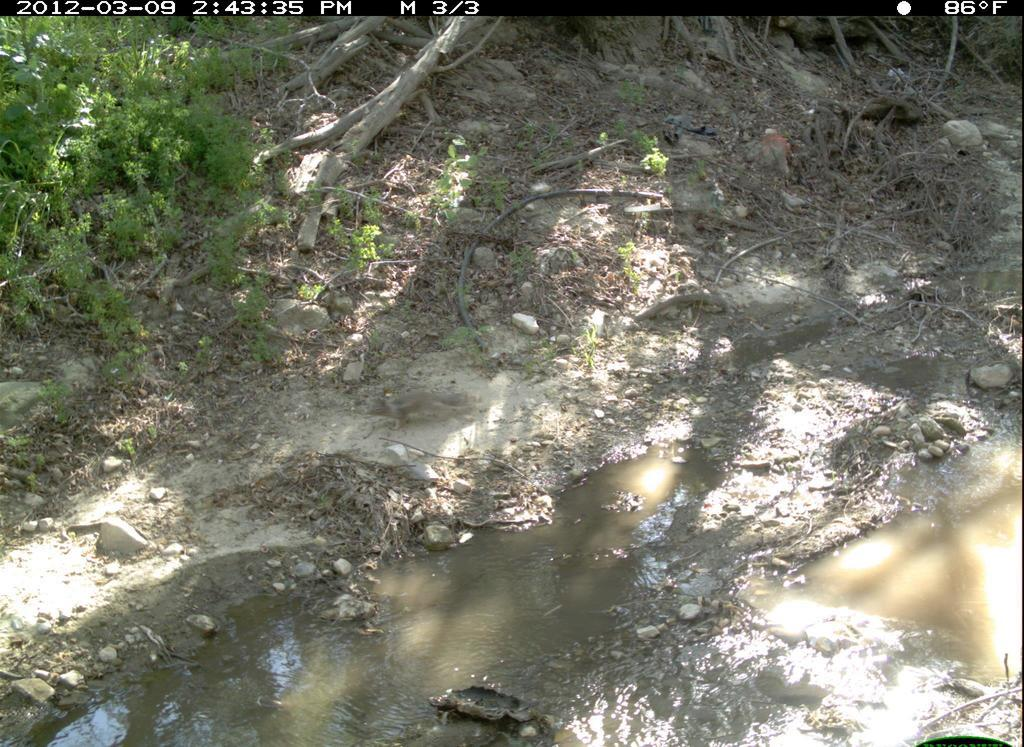squirrel: (368, 388, 483, 436)
